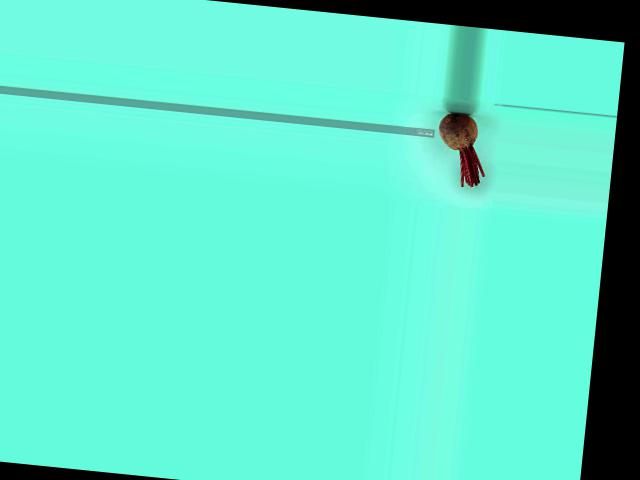beet: (433, 111, 490, 188)
